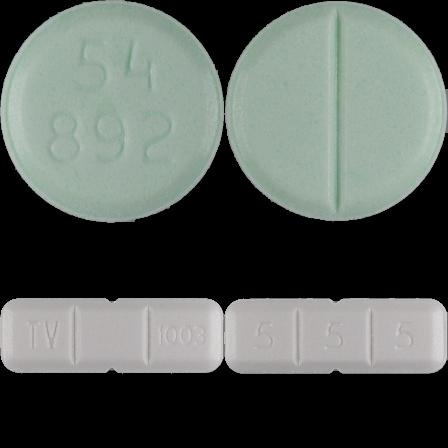51655-012: (0, 0, 224, 224)
